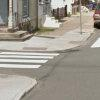Crosswalk: (2, 46, 63, 74)
